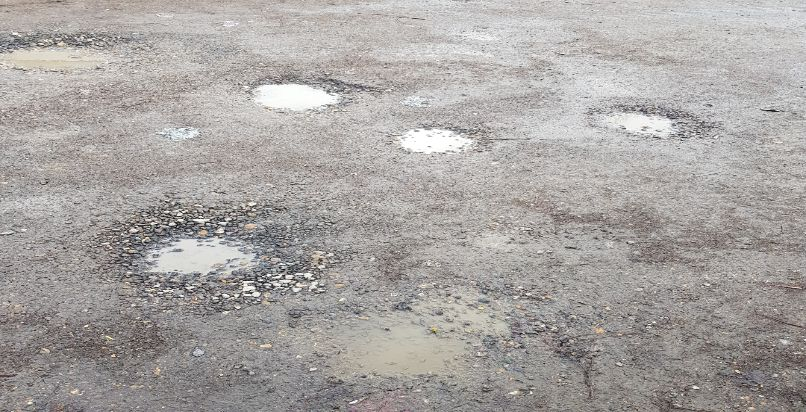pothole: (97, 195, 305, 294), (0, 24, 134, 75), (585, 97, 713, 146), (244, 69, 351, 112), (388, 117, 486, 159)
